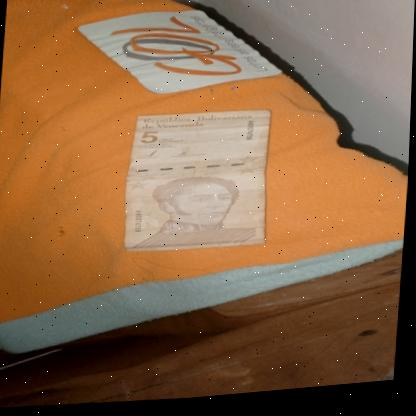five-front-vef: (122, 108, 276, 260)
